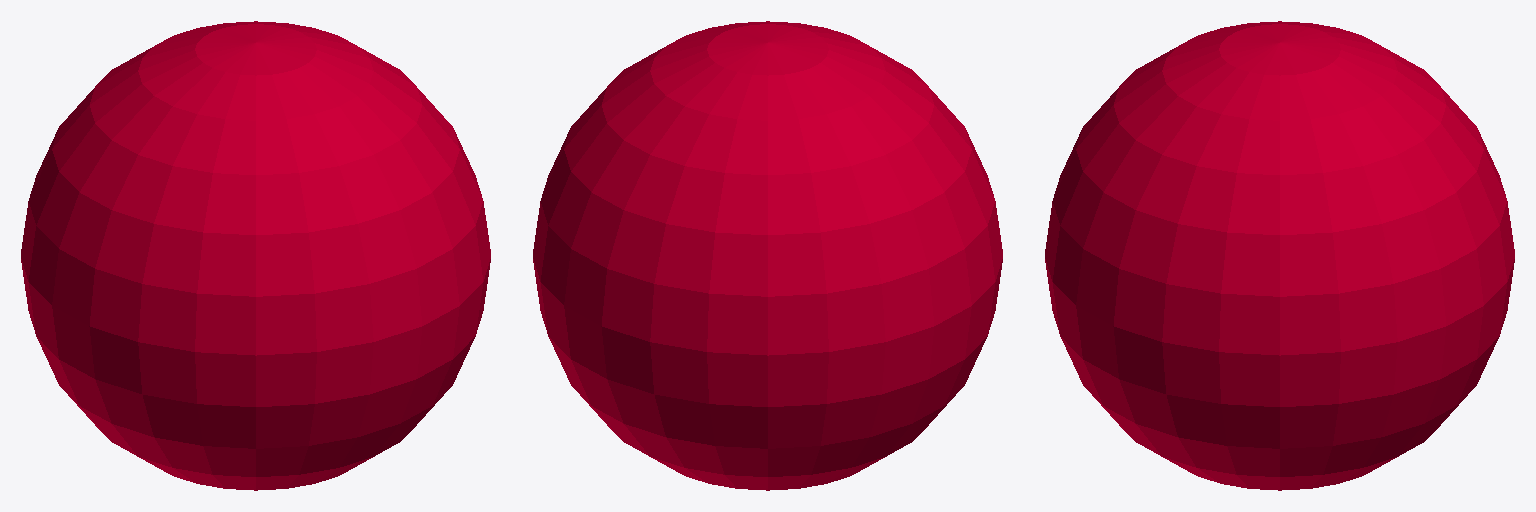
The model's file is 模型加材质.obj.
3 views of the same model, side by side, from view 1: azimuth 30°, elevation 25°; view 2: azimuth 150°, elevation 25°; view 3: azimuth 270°, elevation 25° (orthographic).
Visible parts, largest first — view 1: 球体; view 2: 球体; view 3: 球体.
Boxes of the visible parts, x1=… form: 球体: x1=21, y1=21, x2=490, y2=490; 球体: x1=533, y1=21, x2=1002, y2=490; 球体: x1=1045, y1=21, x2=1514, y2=490.
Size of the model in its own units: 49.44 by 49.44 by 49.44.